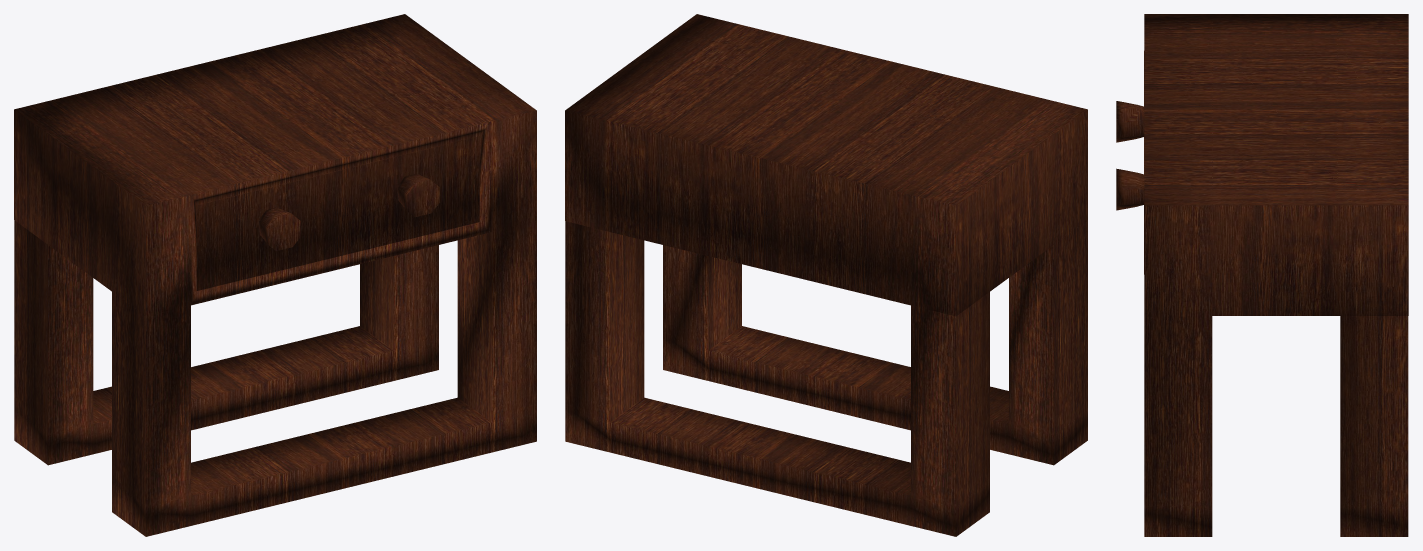
File: nightstand.glb
The picture shows the model from 3 angles, left to right: view 1: azimuth 30°, elevation 25°; view 2: azimuth 150°, elevation 25°; view 3: azimuth 270°, elevation 25°; orthographic projection.
Visible parts, largest first — view 1: bedtable; view 2: bedtable; view 3: bedtable.
Part boxes in pixels (x1=…): bedtable: x1=14, y1=14, x2=536, y2=536; bedtable: x1=565, y1=14, x2=1087, y2=536; bedtable: x1=1116, y1=14, x2=1408, y2=536.
Size of the model in its own units: 0.6796 by 0.55 by 0.4389.
1 material, 1 textured.
